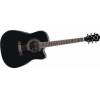guitar: (1, 28, 100, 69)
